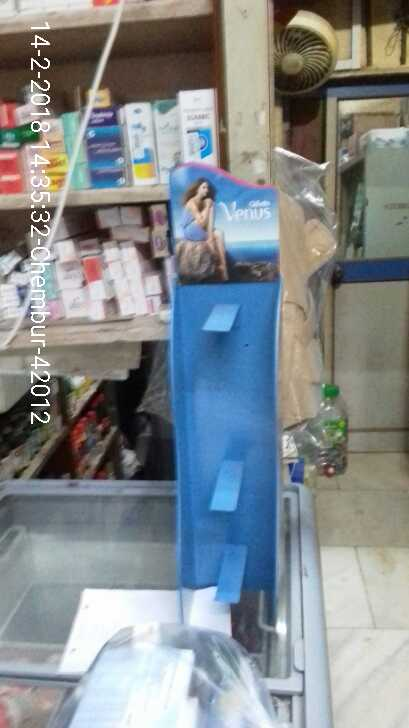reject: (196, 270, 350, 414)
